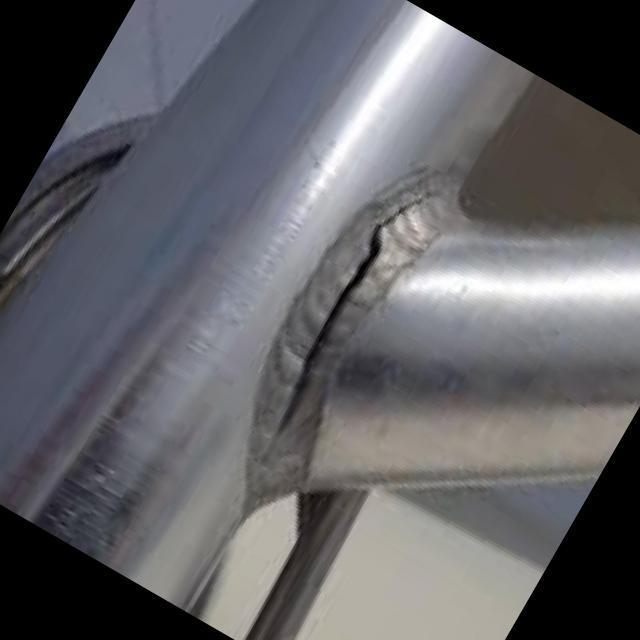defect: (258, 186, 445, 481)
